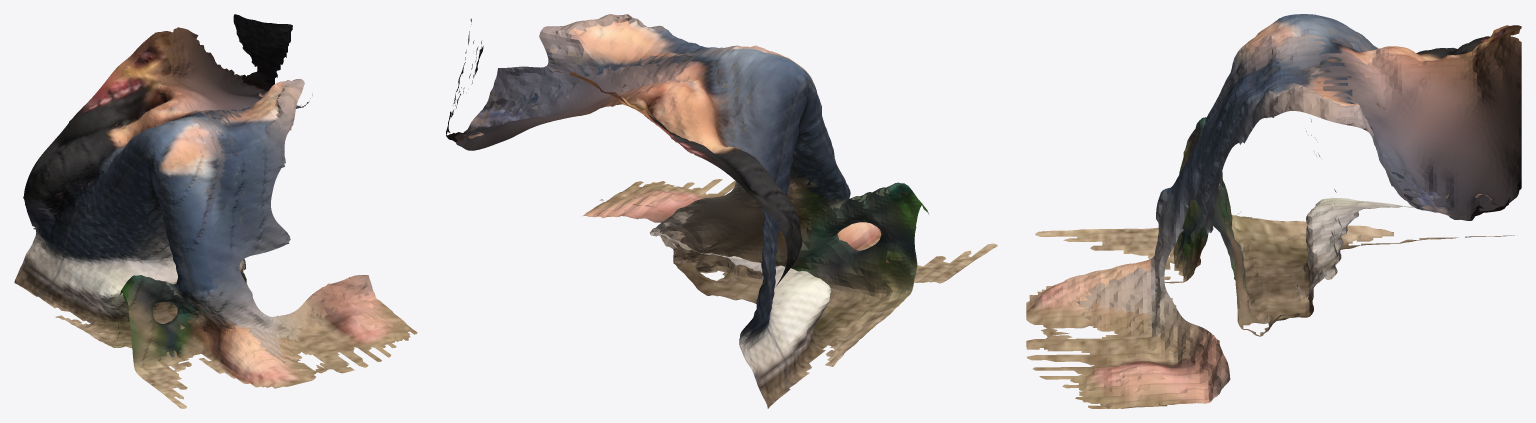
The picture shows the model from 3 angles, left to right: view 1: azimuth 30°, elevation 25°; view 2: azimuth 150°, elevation 25°; view 3: azimuth 270°, elevation 25°; orthographic projection. The views are drawn at different scales.
Bounding box in the file's own units: 0.5775 × 0.4654 × 0.6828.
Materials: 1 (1 with a texture image).
